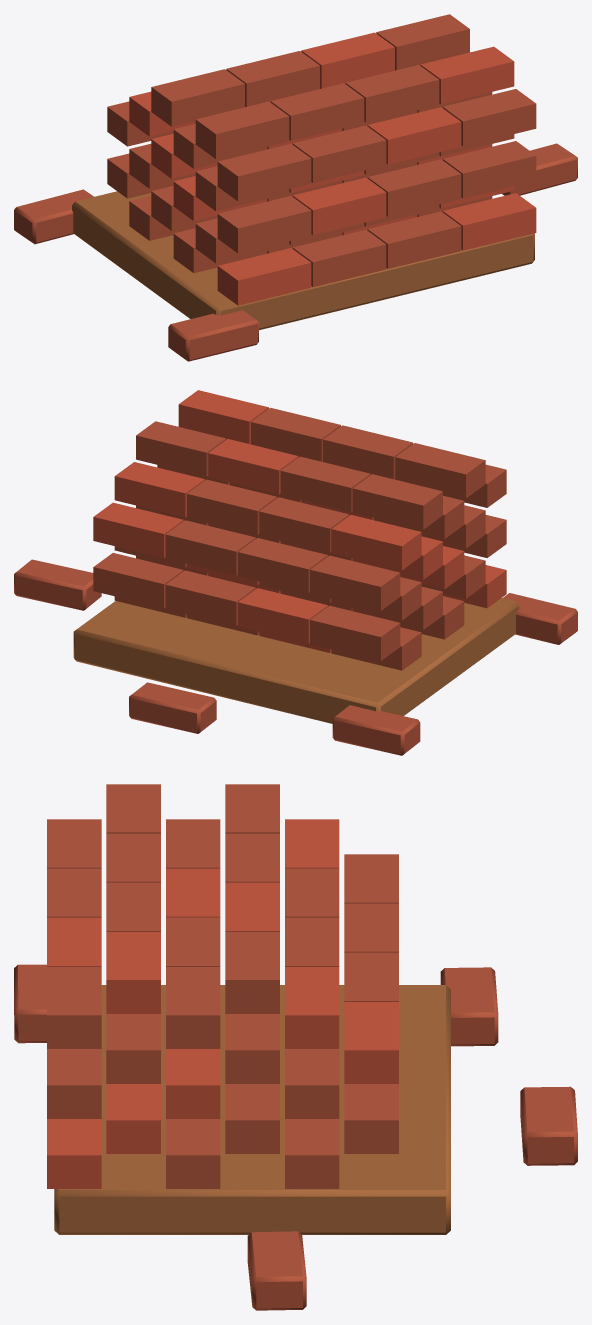
File: growth_bricks.glb
The picture shows the model from 3 angles, top to bottom: view 1: azimuth 30°, elevation 25°; view 2: azimuth 150°, elevation 25°; view 3: azimuth 270°, elevation 25°; orthographic projection. The views are drawn at different scales.
Visible parts, largest first — view 1: growth_bricks; view 2: growth_bricks; view 3: growth_bricks.
Part boxes in pixels (box(x1,y1,x2,y2)): growth_bricks: box(14, 14, 577, 361); growth_bricks: box(14, 390, 577, 755); growth_bricks: box(14, 784, 577, 1310).
Bounding box in the file's own units: 1.51 × 0.5675 × 1.14.
1 material, 1 textured.
